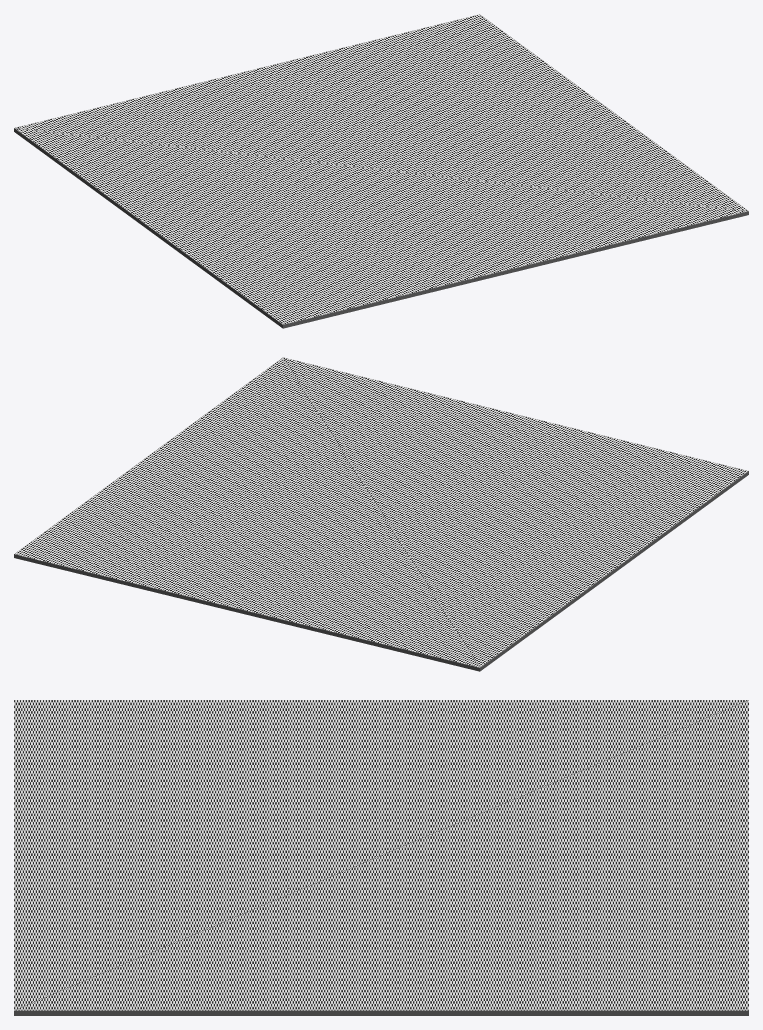
The model's file is santa.gltf.
3 views of the same model, one above another, from view 1: azimuth 30°, elevation 25°; view 2: azimuth 150°, elevation 25°; view 3: azimuth 270°, elevation 25° (orthographic). The views are drawn at different scales.
Visible parts, largest first — view 1: Texture, Baseplate; view 2: Texture, Baseplate; view 3: Texture, Baseplate.
Boxes of the visible parts, box(x1,y1,x2,y2) form: Texture: box(14, 14, 748, 324); Baseplate: box(14, 128, 748, 328); Texture: box(14, 357, 748, 667); Baseplate: box(14, 471, 748, 671); Texture: box(14, 700, 748, 1010); Baseplate: box(14, 1010, 748, 1015).
Size of the model in its own units: 2048 by 18 by 2048.
Materials: 9 (2 with a texture image).
